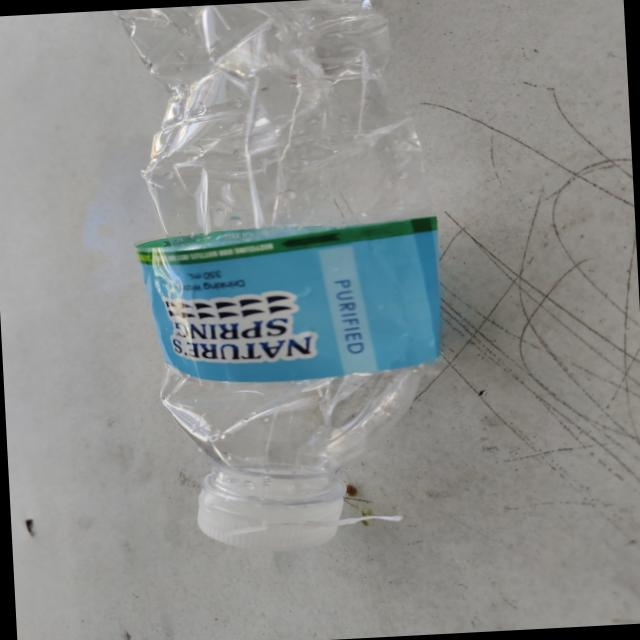Bottle: (113, 0, 439, 550)
